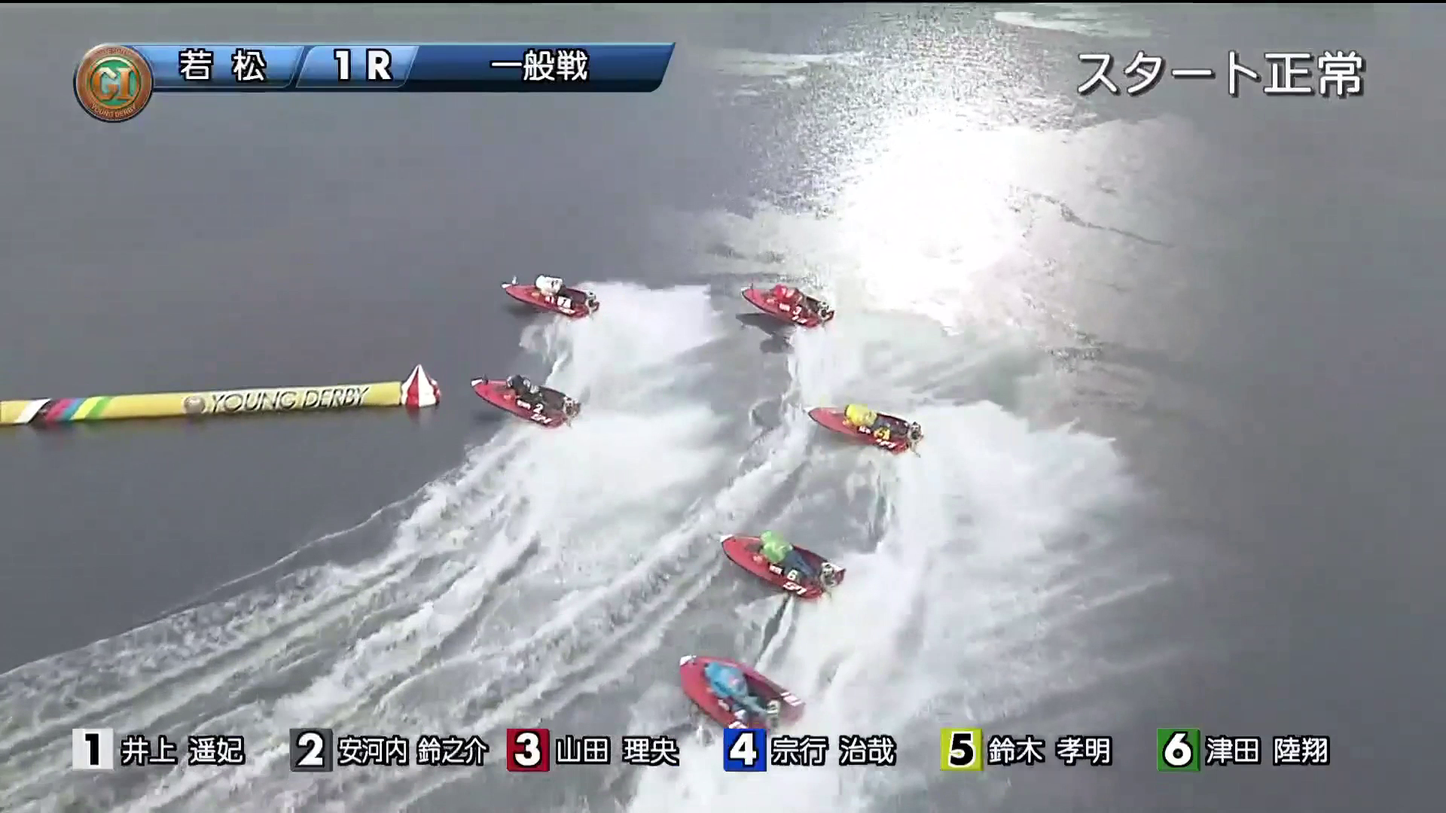１号艇: (489, 286, 560, 340)
２号艇: (442, 374, 571, 434)
３号艇: (744, 276, 842, 323)
４号艇: (705, 532, 839, 597)
５号艇: (684, 668, 808, 723)
６号艇: (815, 386, 914, 467)
